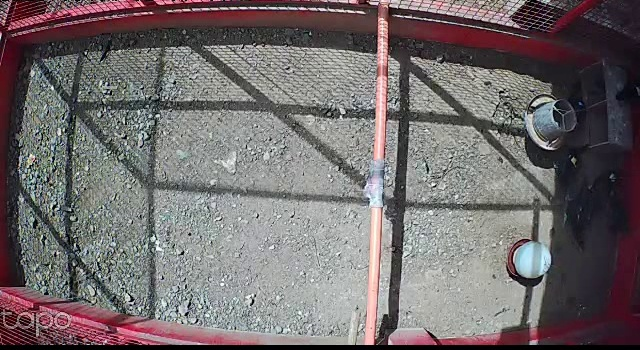Chicken: (561, 142, 588, 183)
Drinker: (506, 238, 554, 280)
Feeder: (526, 93, 578, 153)
Saddle_Color_Yellow: (570, 155, 579, 165)
